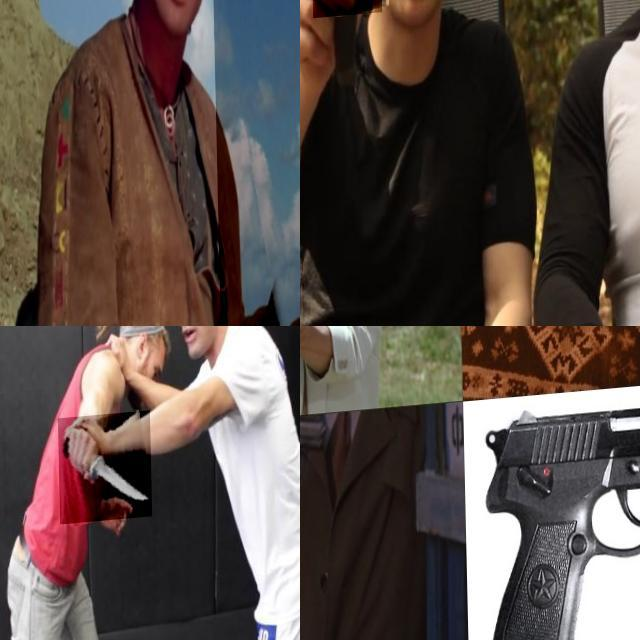-: (57, 416, 151, 528), (308, 0, 380, 107)
gun-knife-thesis - v11 Yolov5 augmented: (471, 401, 640, 640), (208, 0, 300, 326), (300, 416, 351, 554), (556, 326, 626, 375), (300, 326, 319, 373)
